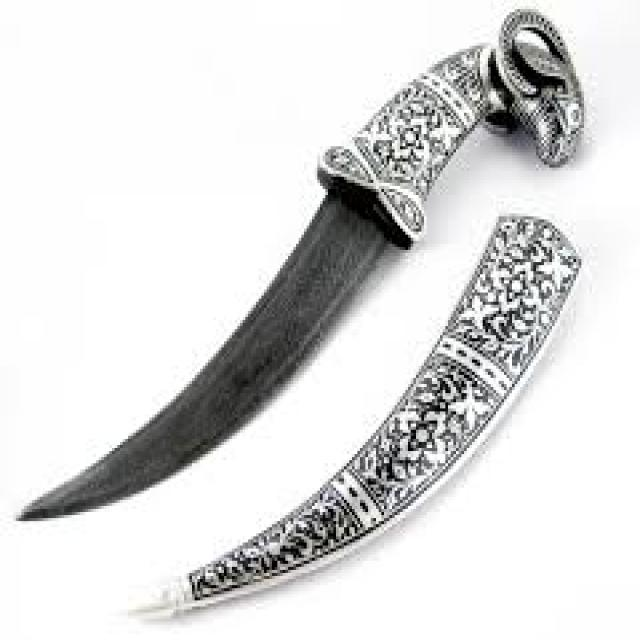Gun: (48, 0, 571, 591)
